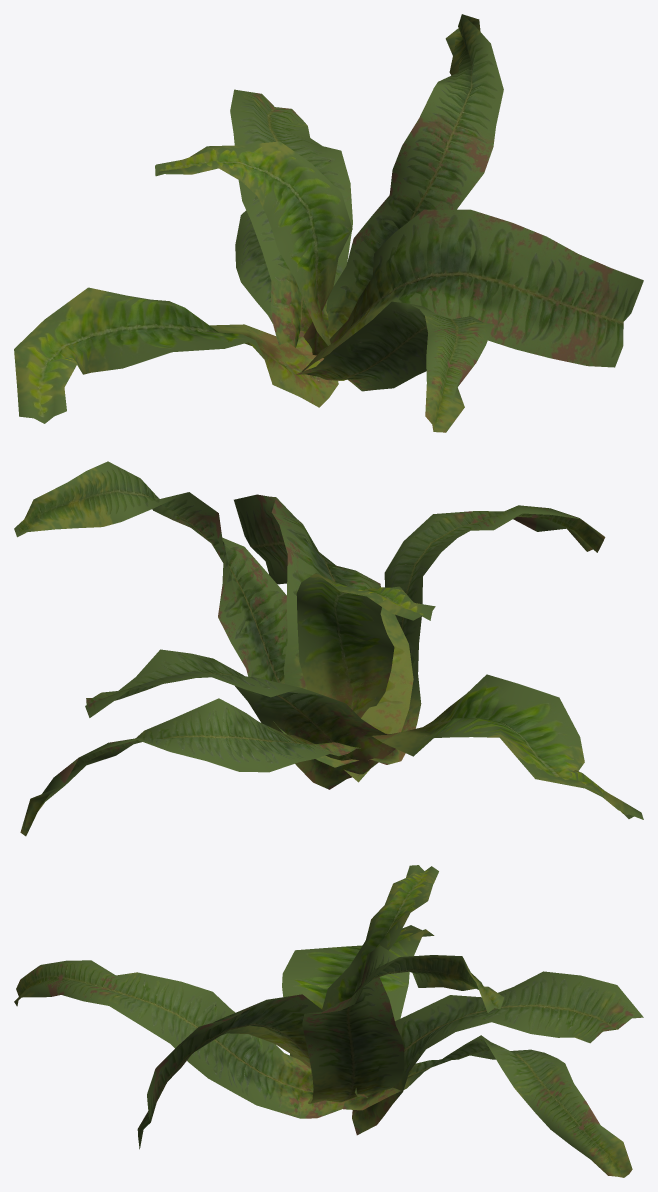
Rendered from fern_02_a.gltf.
The picture shows the model from 3 angles, top to bottom: view 1: azimuth 30°, elevation 25°; view 2: azimuth 150°, elevation 25°; view 3: azimuth 270°, elevation 25°; orthographic projection. The views are drawn at different scales.
Parts seen in each view (by area): view 1: fern_02_a; view 2: fern_02_a; view 3: fern_02_a.
Boxes of the visible parts, x1,y1,x2,y2 form: fern_02_a: (14, 14, 643, 432); fern_02_a: (14, 461, 643, 836); fern_02_a: (14, 865, 643, 1177).
Bounding box in the file's own units: 0.5519 × 0.2868 × 0.6134.
Materials: 1 (1 with a texture image).
